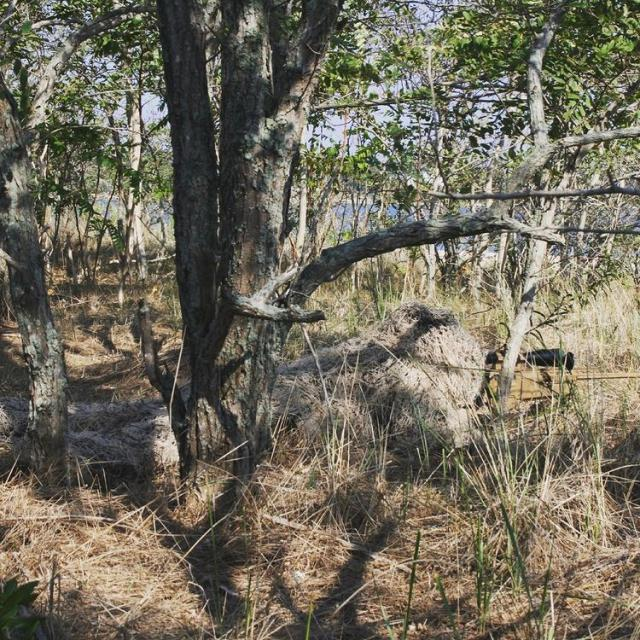Camouflage: (1, 302, 575, 472)
